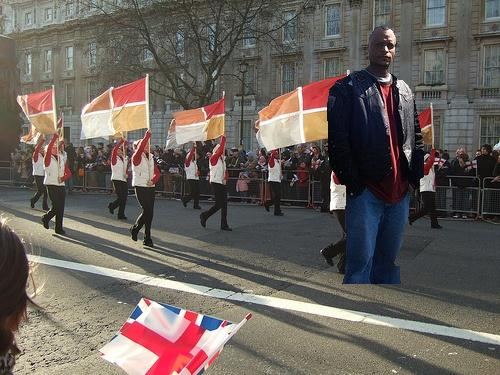tampered: (328, 26, 424, 284)
